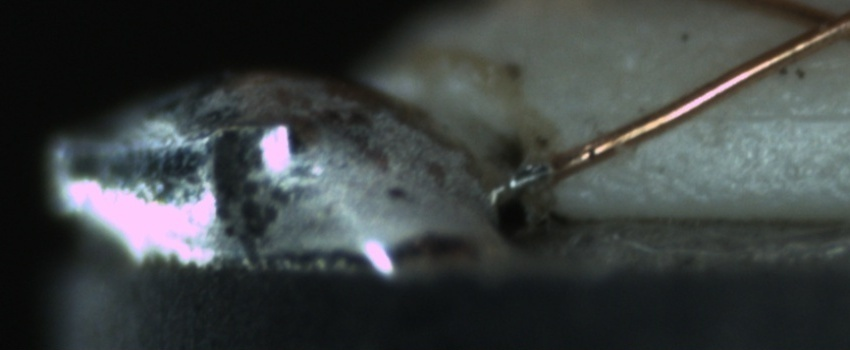CL: (793, 0, 850, 48)
DL: (697, 84, 850, 148)
TS: (492, 159, 550, 199)
